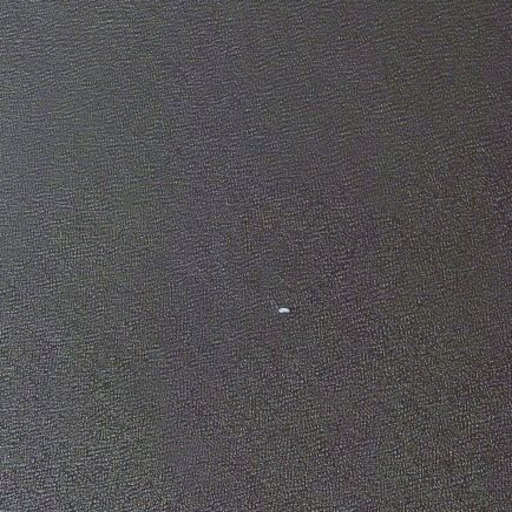ship: (276, 305, 290, 315)
